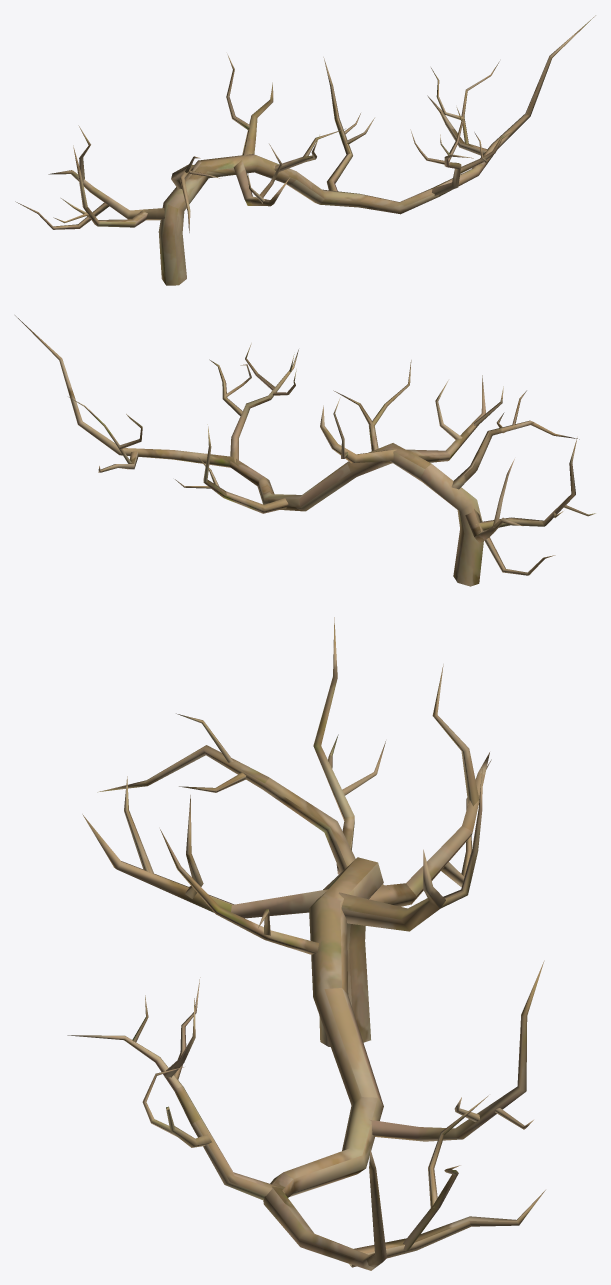
Rendered from P_DesertTwigRoots02.obj.
3 views of the same model, one above another, from view 1: azimuth 30°, elevation 25°; view 2: azimuth 150°, elevation 25°; view 3: azimuth 270°, elevation 25° (orthographic). The views are drawn at different scales.
Bounding box in the file's own units: 3.7 × 1.17 × 1.4.
